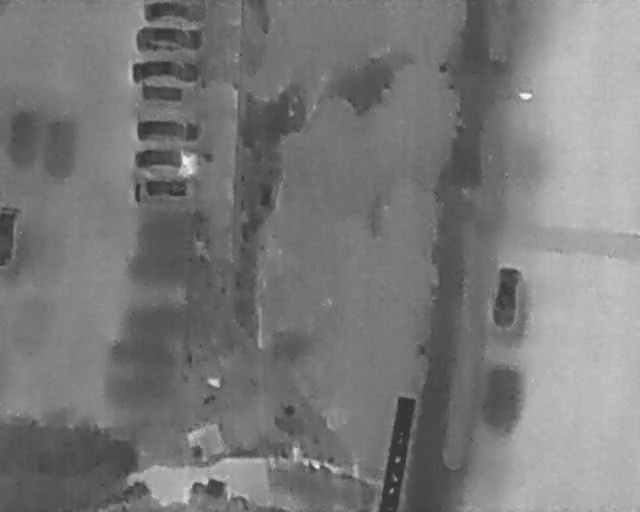Car: (490, 264, 523, 330), (136, 24, 203, 56), (131, 61, 201, 87), (134, 150, 199, 177), (136, 118, 200, 143), (143, 0, 206, 24), (134, 180, 193, 202), (1, 206, 21, 267)
